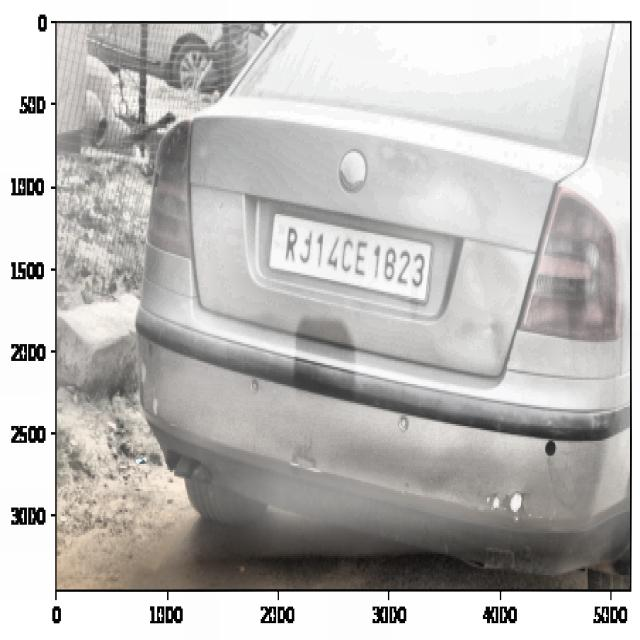license_plate: (280, 218, 429, 300)
